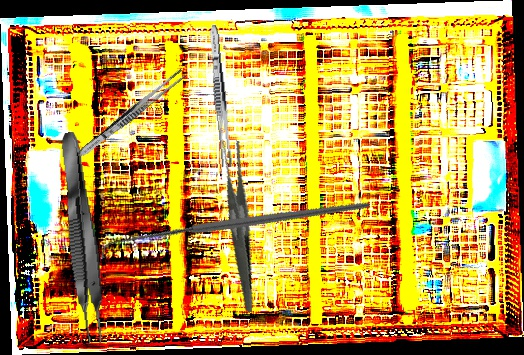Dressing Forceps: (189, 137, 286, 313), (75, 66, 188, 161), (206, 24, 235, 169)
Hook Surgical: (100, 116, 371, 344)
Tissue Forceps: (54, 130, 111, 346)
